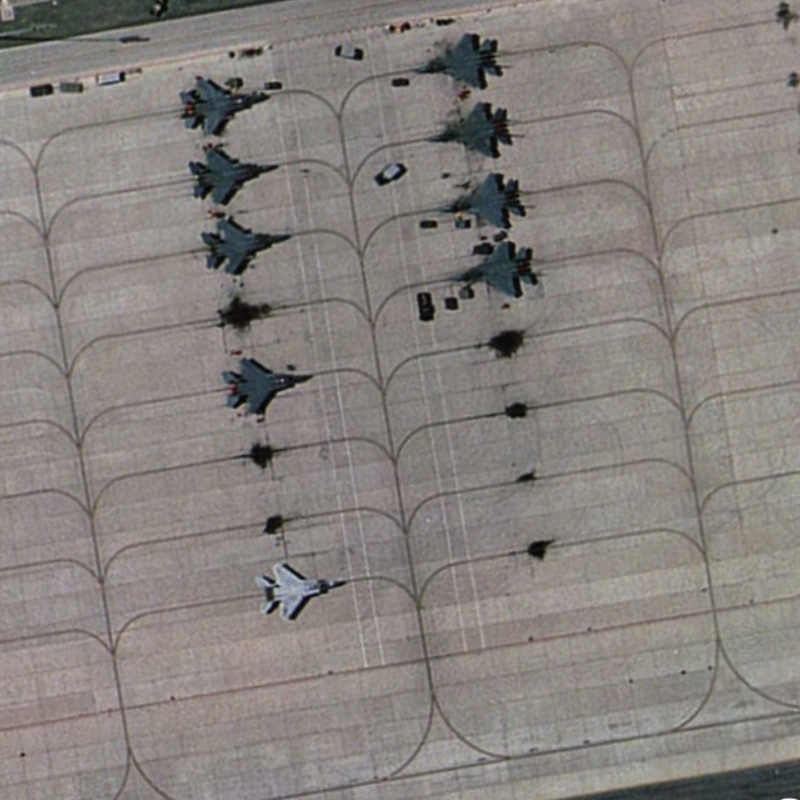A13: (248, 555, 354, 630), (193, 209, 299, 282), (172, 68, 278, 140), (438, 235, 545, 306), (218, 350, 319, 423), (410, 27, 511, 97), (180, 144, 287, 208), (420, 99, 524, 161), (437, 168, 534, 232)
